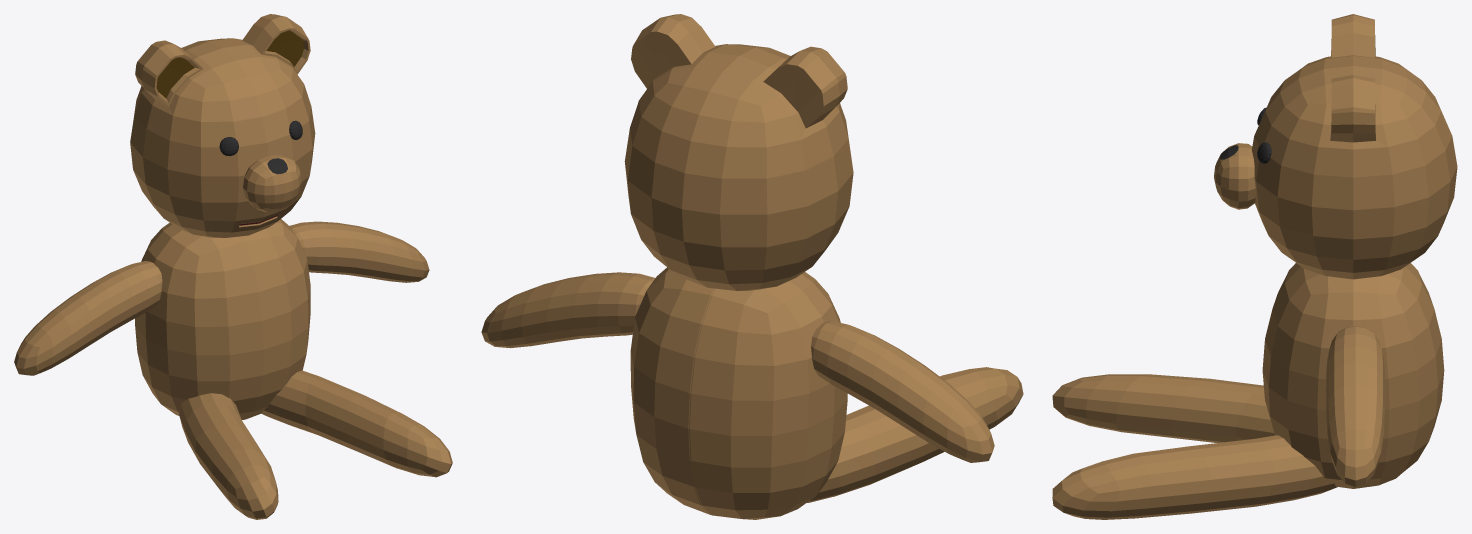
Rendered from Bear_2.fbx.
3 renders of one model, left to right at view 1: azimuth 30°, elevation 25°; view 2: azimuth 150°, elevation 25°; view 3: azimuth 270°, elevation 25°, orthographic. The views are drawn at different scales.
Parts seen in each view (by area): view 1: Bear_2; view 2: Bear_2; view 3: Bear_2.
Part boxes in pixels (x1=…): Bear_2: x1=14, y1=14, x2=452, y2=519; Bear_2: x1=481, y1=14, x2=1023, y2=519; Bear_2: x1=1052, y1=14, x2=1457, y2=519.
Bounding box in the file's own units: 0.7254 × 0.6464 × 0.5529.
